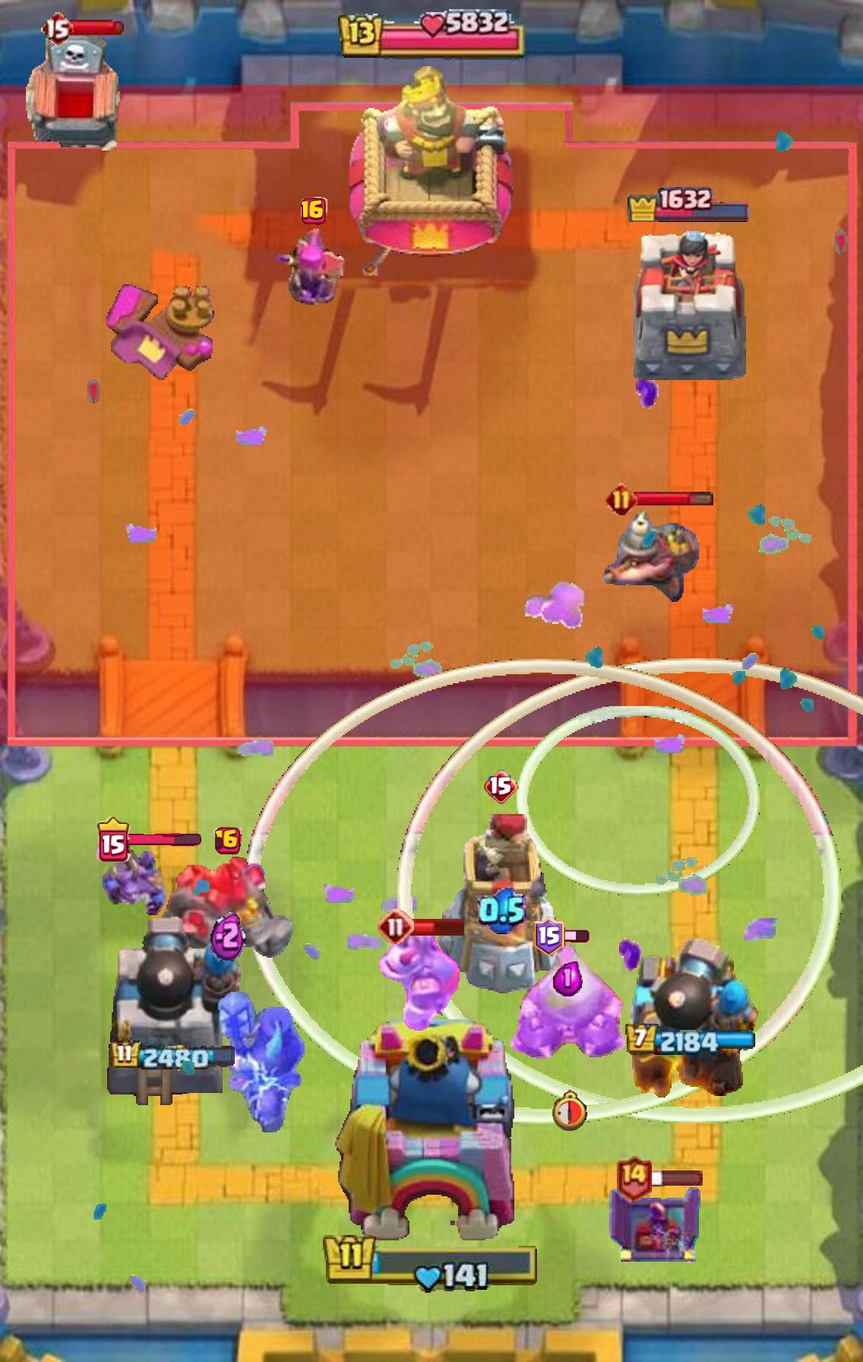bar: (634, 491, 714, 508), (410, 917, 466, 936), (70, 19, 125, 37), (649, 1168, 703, 1186), (127, 833, 201, 846), (561, 930, 590, 943)
bar-level: (615, 1154, 653, 1201), (96, 816, 132, 862), (378, 908, 414, 945), (532, 917, 565, 956), (484, 769, 519, 804), (40, 10, 74, 46), (605, 483, 637, 515), (214, 827, 242, 855), (301, 197, 328, 225)
